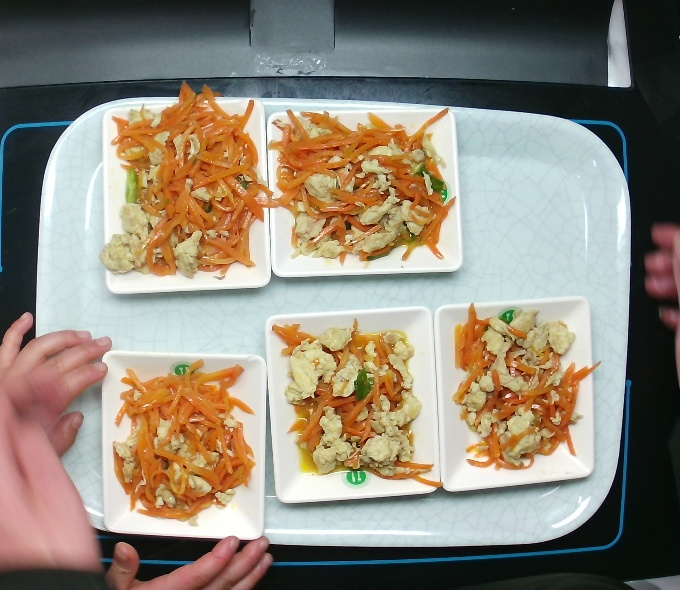wcq-HuLuoBoChaoDan: (106, 99, 264, 278), (275, 119, 458, 261), (115, 362, 255, 530), (288, 319, 421, 490), (449, 312, 584, 480)
